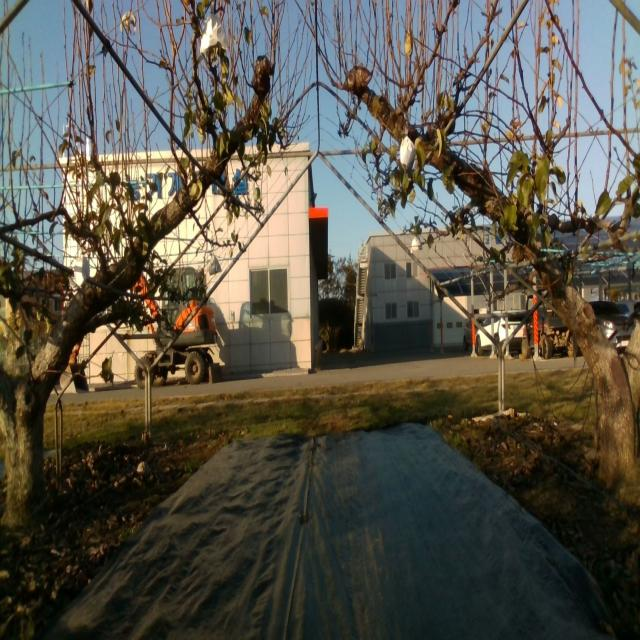pearbags: (200, 14, 228, 55), (399, 134, 416, 174), (74, 248, 90, 285), (208, 252, 222, 276), (411, 235, 422, 256)
